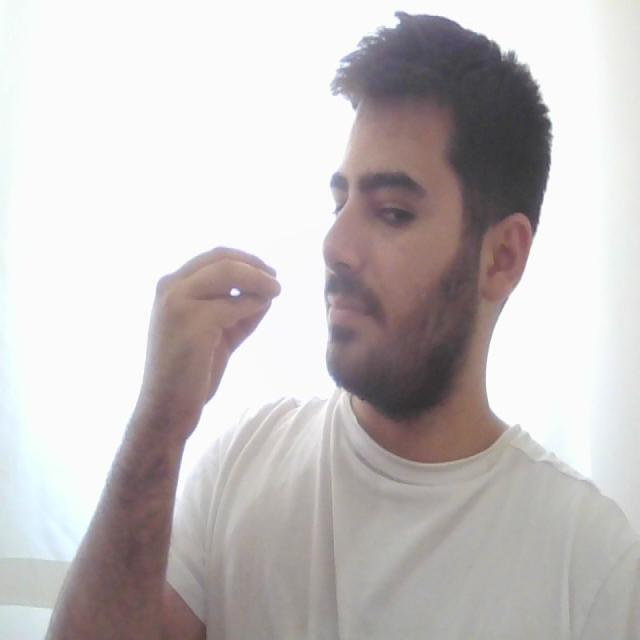Yemek: (152, 248, 392, 330)
